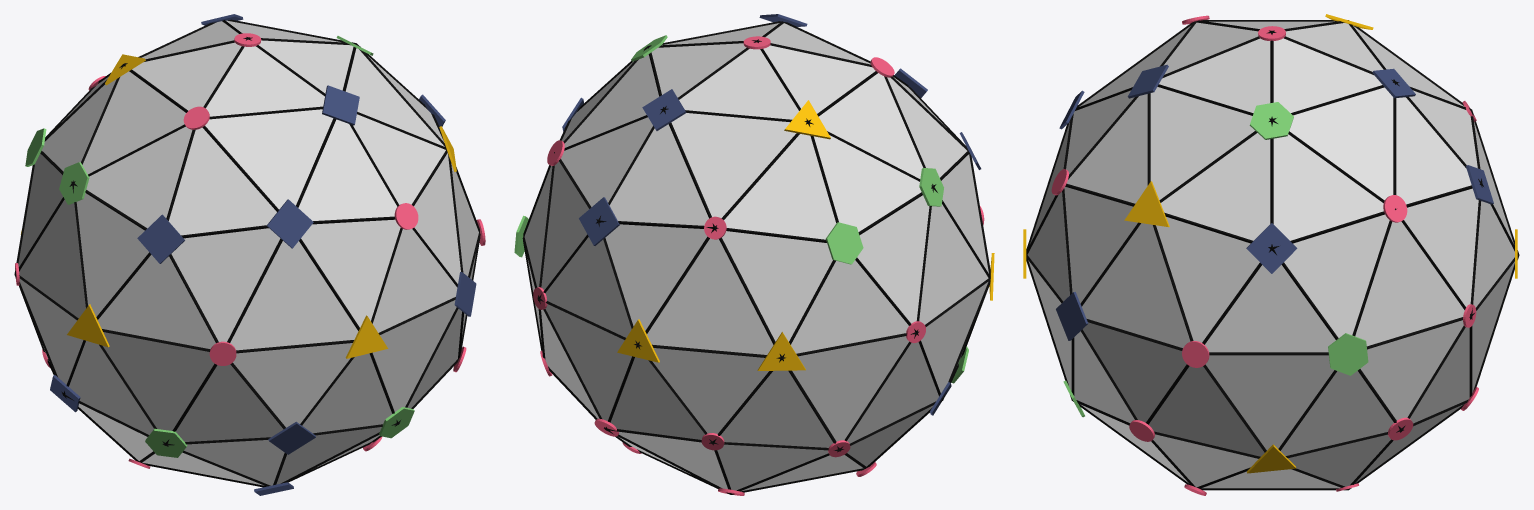
File: wtf-12.glb
3 renders of one model, left to right at view 1: azimuth 30°, elevation 25°; view 2: azimuth 150°, elevation 25°; view 3: azimuth 270°, elevation 25°, orthographic. The views are drawn at different scales.
Parts seen in each view (by area): view 1: Icosphere, wireframe1, wireisosphereV4.001, wireisosphereV3; view 2: Icosphere, wireframe1, wireisosphereV3, wireisosphereV4.001; view 3: Icosphere, wireframe1, wireisosphereV4.001, wireisosphereV3.
Part boxes in pixels (x1=…): Icosphere: x1=18, y1=20, x2=478, y2=485; wireframe1: x1=14, y1=19, x2=480, y2=487; wireisosphereV4.001: x1=15, y1=14, x2=485, y2=495; wireisosphereV3: x1=15, y1=33, x2=482, y2=457; Icosphere: x1=524, y1=23, x2=988, y2=491; wireframe1: x1=522, y1=21, x2=990, y2=494; wireisosphereV3: x1=517, y1=16, x2=991, y2=495; wireisosphereV4.001: x1=514, y1=14, x2=994, y2=495; Icosphere: x1=1027, y1=21, x2=1514, y2=488; wireframe1: x1=1026, y1=20, x2=1519, y2=490; wireisosphereV4.001: x1=1023, y1=14, x2=1517, y2=495; wireisosphereV3: x1=1182, y1=19, x2=1493, y2=440.
Bounding box in the file's own units: 3.43 × 3.47 × 3.47.
